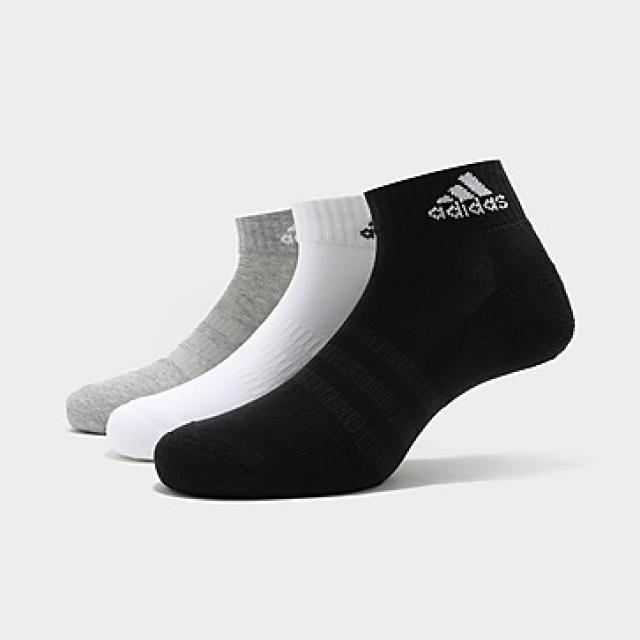sock: (150, 157, 575, 499)
